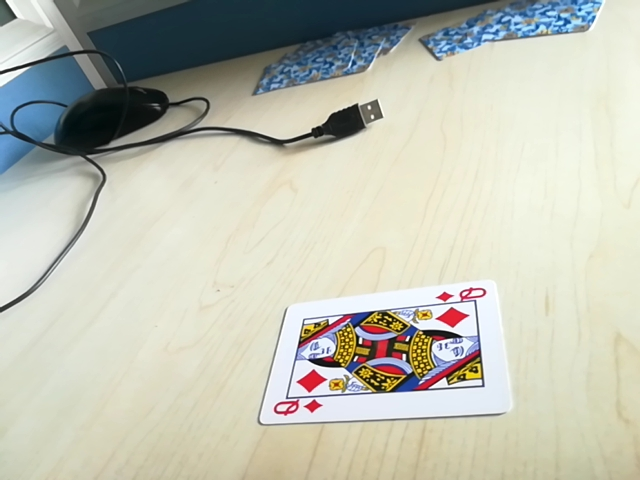fk q: (269, 396, 326, 422), (433, 284, 487, 308)
